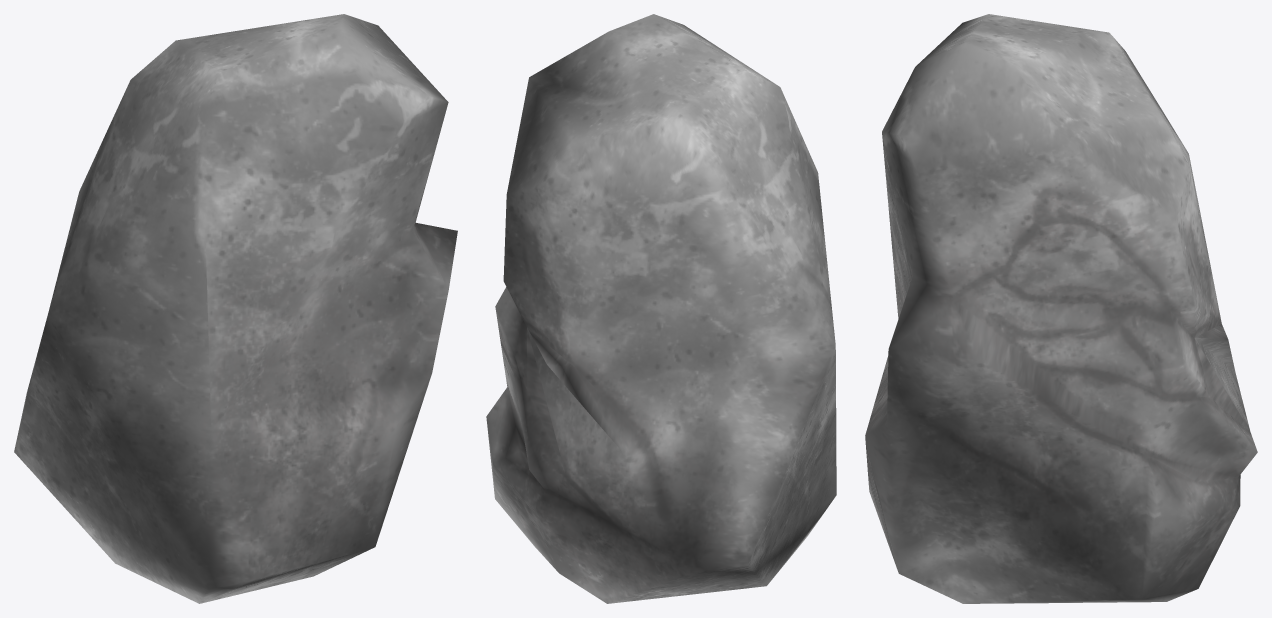
Rendered from Rock4_LOD2.fbx.
The picture shows the model from 3 angles, left to right: view 1: azimuth 30°, elevation 25°; view 2: azimuth 150°, elevation 25°; view 3: azimuth 270°, elevation 25°; orthographic projection. The views are drawn at different scales.
Parts seen in each view (by area): view 1: Rock4_2; view 2: Rock4_2; view 3: Rock4_2.
Boxes of the visible parts, bbox=[...] form: Rock4_2: bbox=[14, 14, 457, 603]; Rock4_2: bbox=[486, 14, 836, 603]; Rock4_2: bbox=[865, 14, 1257, 603].
Size of the model in its own units: 1.69 by 2.38 by 1.47.
